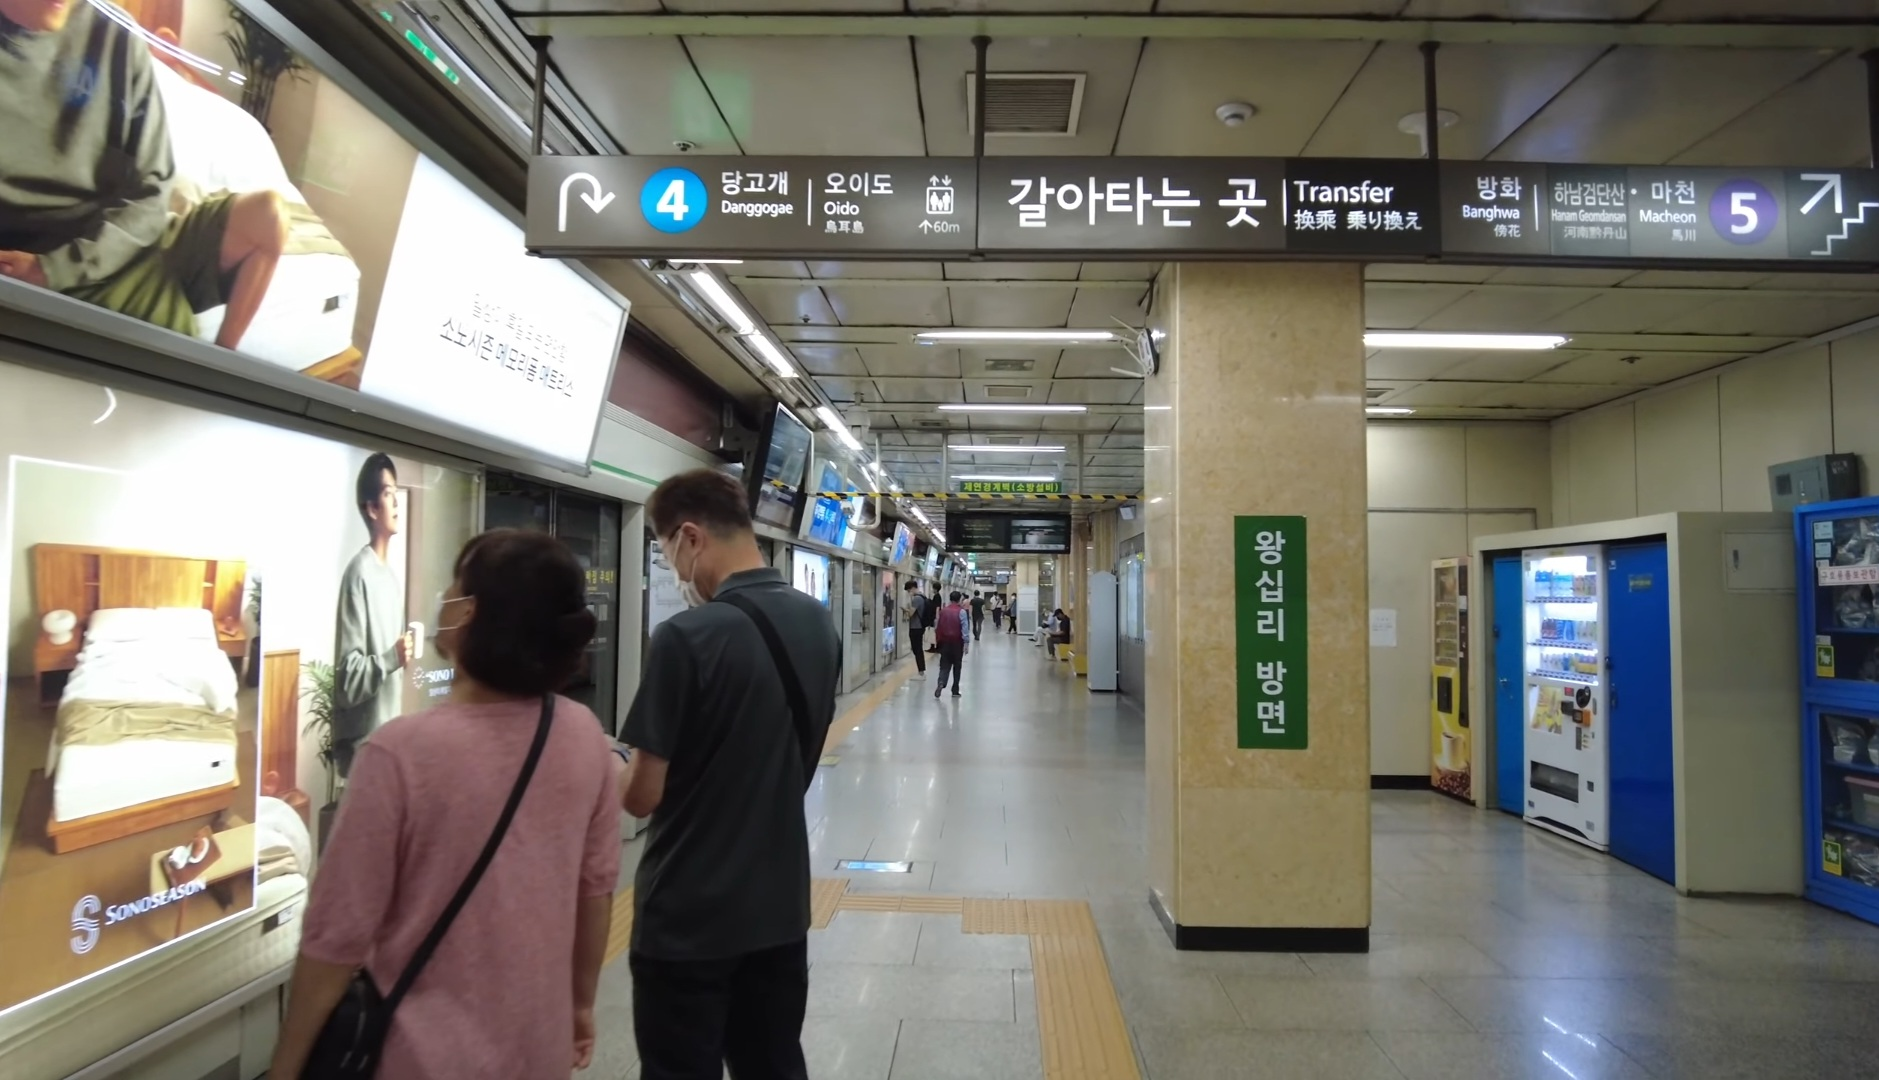signBoard: (525, 148, 1874, 274)
